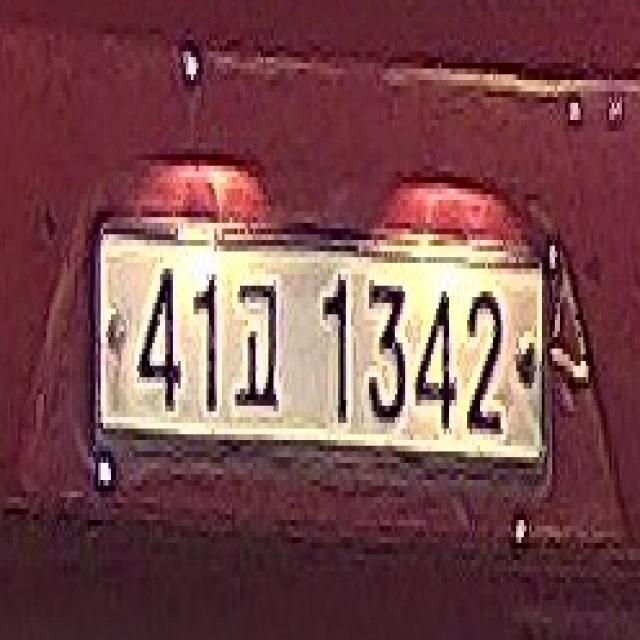1: (317, 263, 351, 428), (191, 269, 222, 417)
2: (462, 280, 506, 440)
3: (361, 274, 405, 429)
4: (134, 263, 183, 411), (410, 286, 457, 440)
go: (235, 280, 281, 417)
license_plate: (85, 211, 550, 480)
